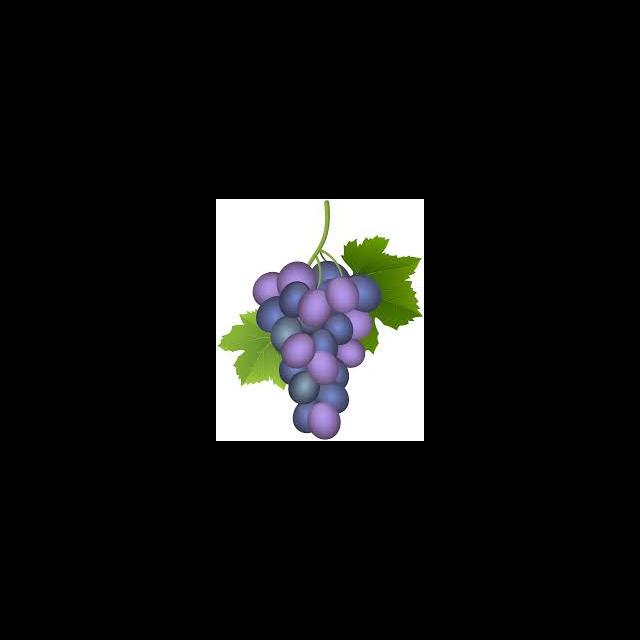grape: (252, 260, 381, 439)
